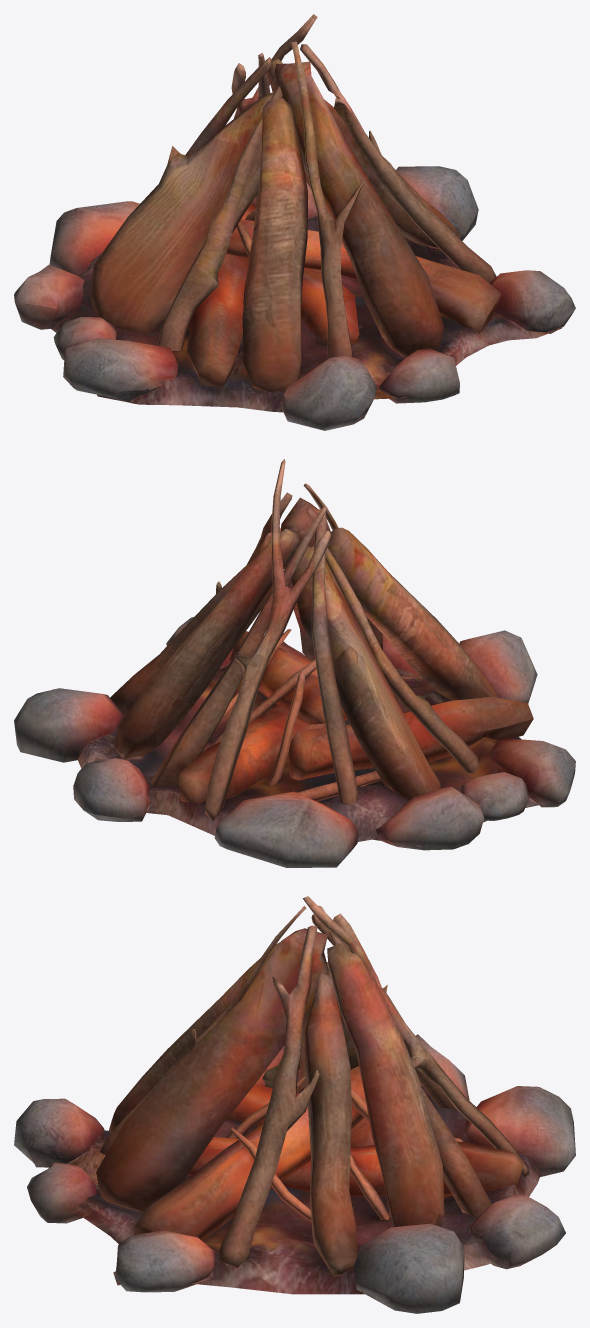
Rendered from wood.glb.
The picture shows the model from 3 angles, top to bottom: view 1: azimuth 30°, elevation 25°; view 2: azimuth 150°, elevation 25°; view 3: azimuth 270°, elevation 25°; orthographic projection. The views are drawn at different scales.
Parts seen in each view (by area): view 1: Campfire; view 2: Campfire; view 3: Campfire.
Part boxes in pixels (x1,y1,x2,y2): Campfire: (14, 14, 575, 430); Campfire: (14, 459, 575, 867); Campfire: (14, 896, 575, 1313).
Bounding box in the file's own units: 3.92 × 2.4 × 3.76.
1 material, 1 textured.
